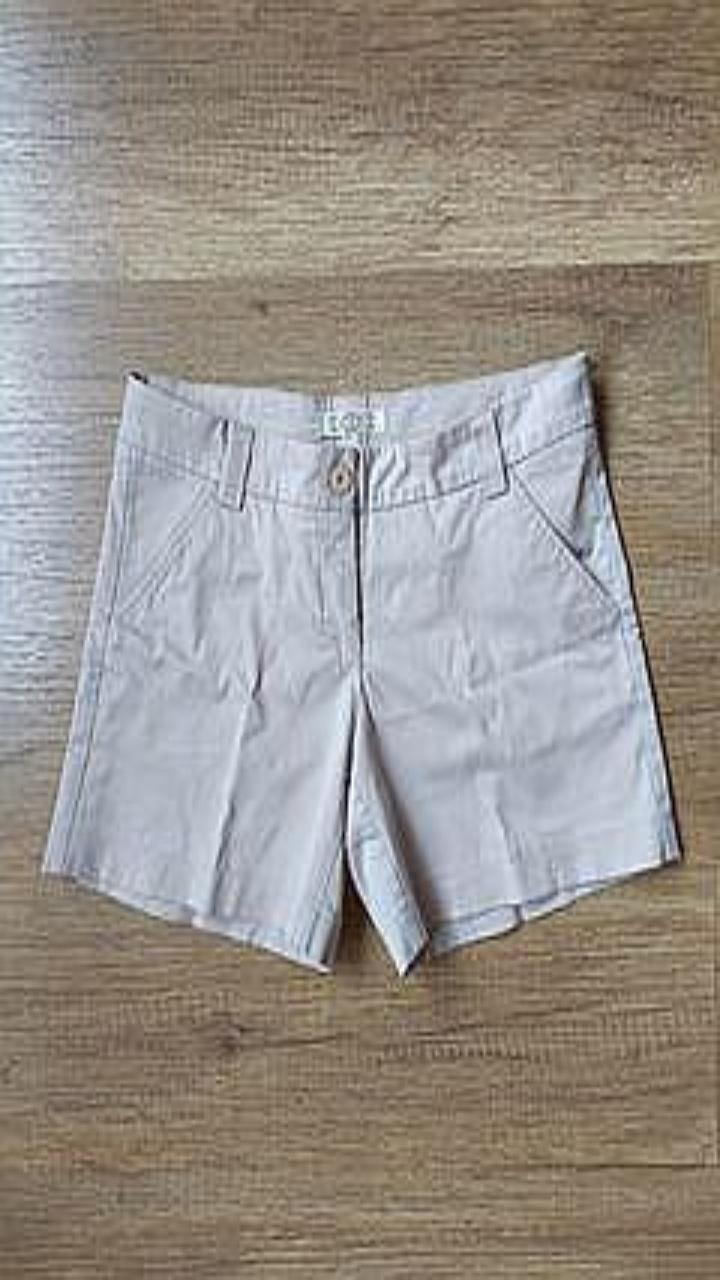Shorts: (43, 351, 681, 973)
